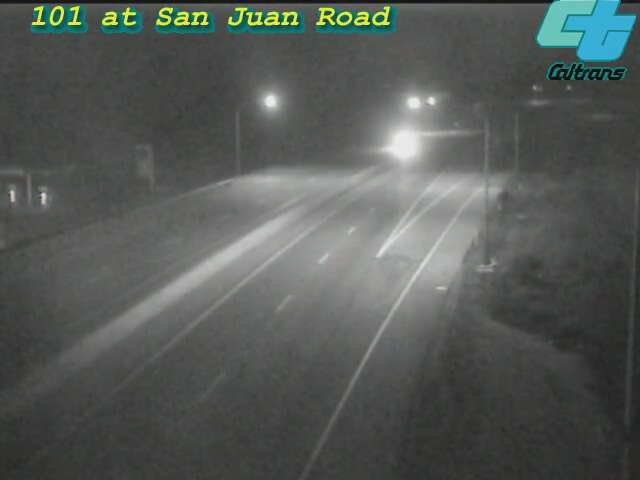vehicle: (376, 119, 426, 169)
